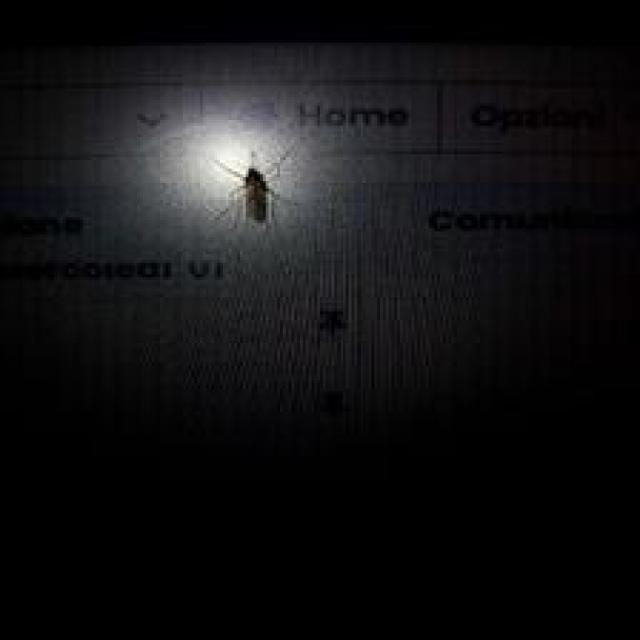Culex: (210, 148, 281, 228)
